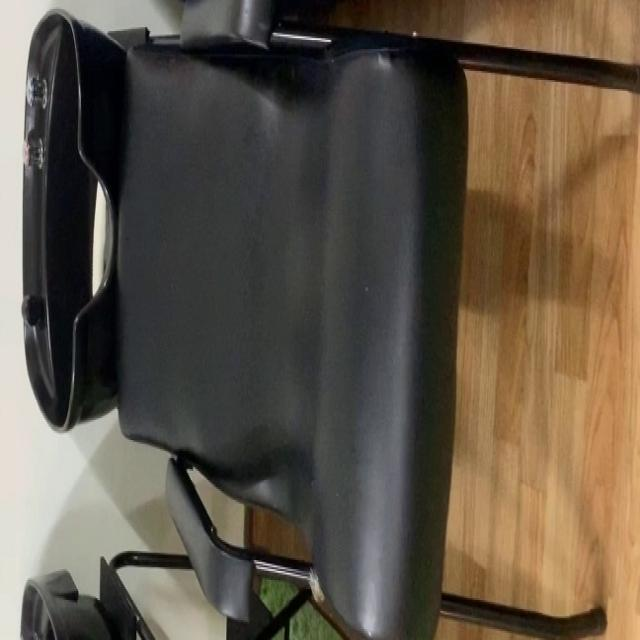chair: (117, 29, 640, 640)
